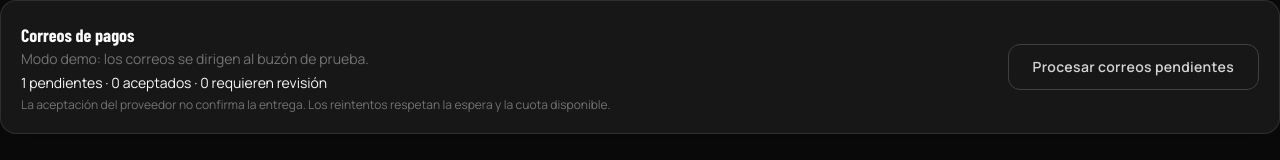
Scenario: EstadoCorreos › procesa pendientes solo al pulsar y actualiza el resultado
Expected: the text "1 pendientes · 0 aceptados · 0 requieren revisión" is shown, 21,73 -> 327,92
Click the button "Procesar correos pendientes".
click(1133, 67)  # box 1008,44 -> 1259,90
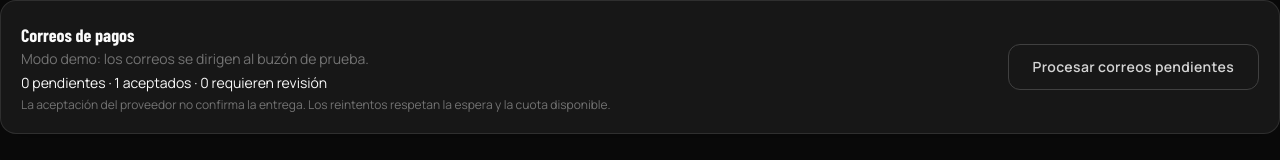
Expected: the text "0 pendientes · 1 aceptados · 0 requieren revisión" is shown, 21,73 -> 327,92
